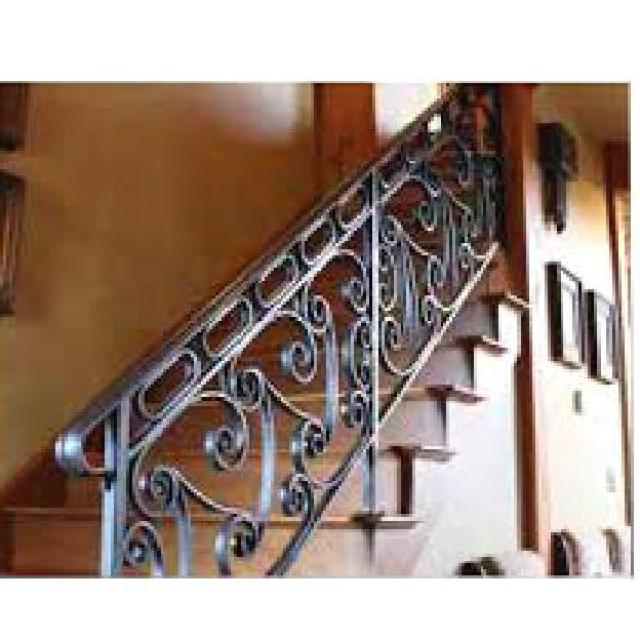stair: (3, 86, 532, 579)
